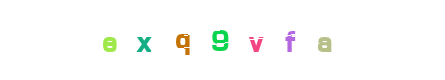9: (182, 0, 262, 80)
A: (246, 0, 326, 80)
E: (71, 0, 151, 80)
F: (228, 0, 308, 80)
Q: (152, 0, 232, 80)
V: (216, 0, 296, 80)
X: (143, 0, 223, 80)
